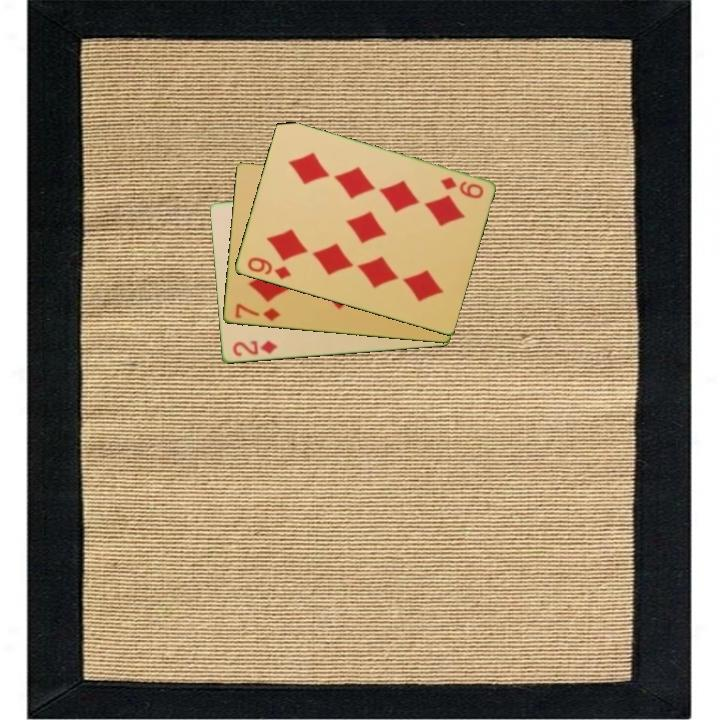2d: (229, 337, 280, 359)
7d: (231, 300, 283, 324)
9d: (243, 254, 294, 282), (437, 173, 486, 202)
